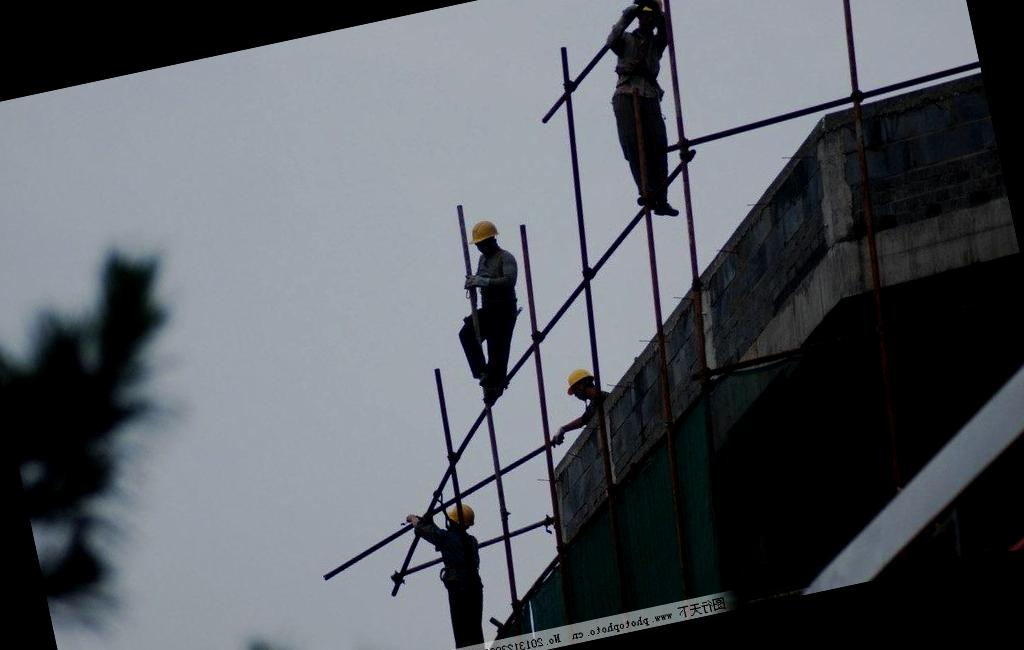helmet: (562, 364, 604, 408), (444, 500, 482, 530), (466, 217, 498, 244)
person: (586, 0, 714, 232), (430, 208, 544, 411), (403, 493, 503, 650), (558, 354, 609, 429)
